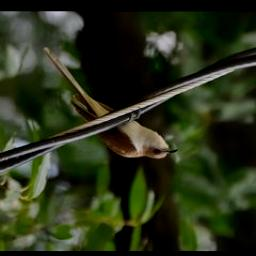Cuckoo: (42, 45, 179, 161)
